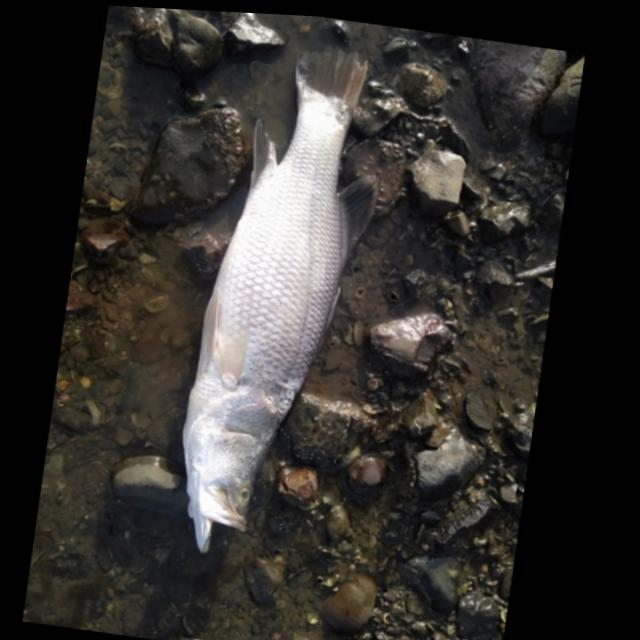Seabass: (160, 31, 398, 571)
